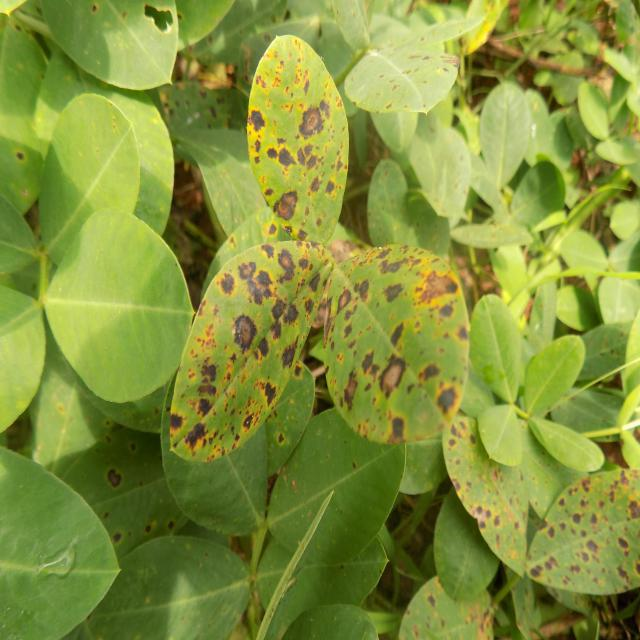Ground nut_healthy: (46, 210, 189, 404), (35, 93, 140, 265)
Ground nut_tikka leaf spot: (168, 244, 326, 461), (326, 247, 468, 442), (246, 33, 350, 240), (529, 467, 640, 591), (442, 418, 529, 576)
